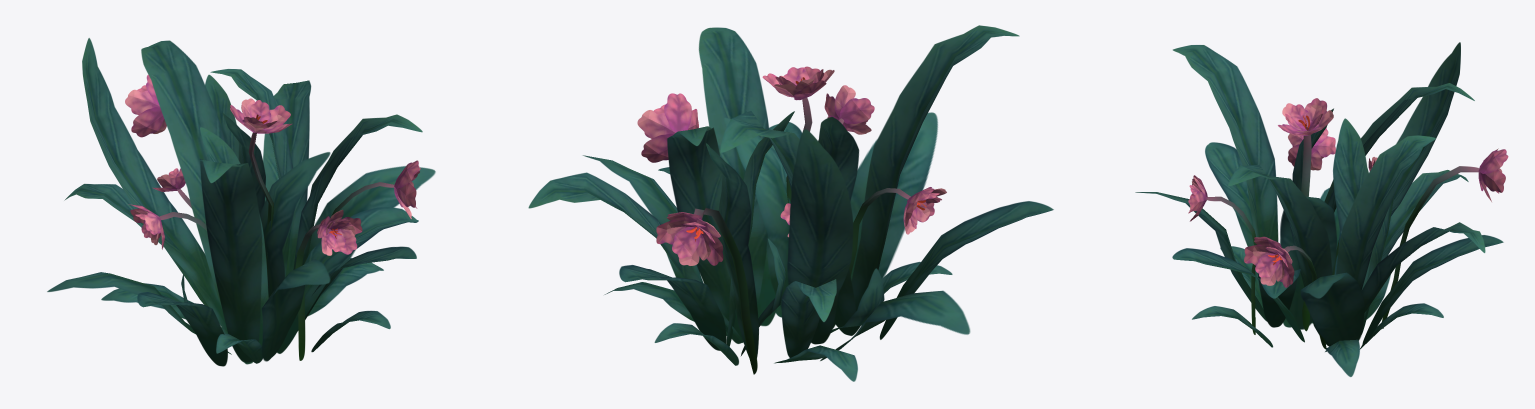
Rendered from flower_bush_b.glb.
3 renders of one model, left to right at view 1: azimuth 30°, elevation 25°; view 2: azimuth 150°, elevation 25°; view 3: azimuth 270°, elevation 25°, orthographic. The views are drawn at different scales.
Visible parts, largest first — view 1: Plane_w; view 2: Plane_w; view 3: Plane_w.
Boxes of the visible parts, x1=… form: Plane_w: x1=47, y1=38, x2=435, y2=366; Plane_w: x1=528, y1=25, x2=1053, y2=381; Plane_w: x1=1135, y1=42, x2=1508, y2=376.
Bounding box in the file's own units: 1.98 × 1.4 × 1.85.
1 material, 1 textured.
